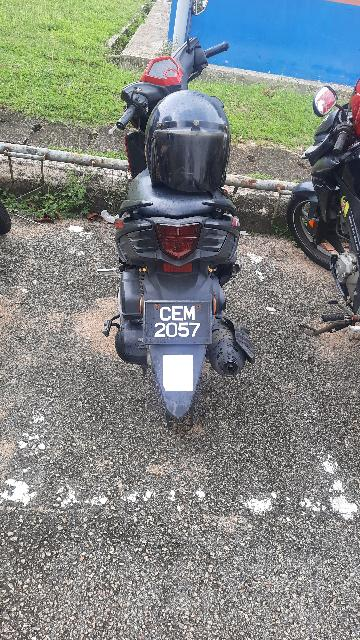License_Plate: (131, 297, 239, 357)
motorcycle: (83, 28, 278, 442)
